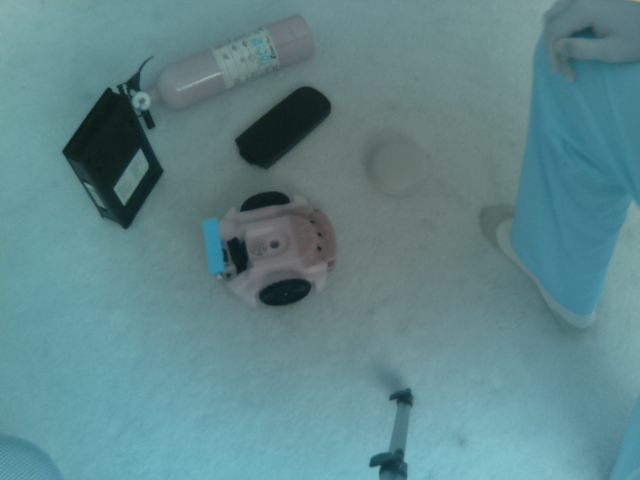board: (199, 212, 236, 281)
chassis: (191, 189, 341, 306)
